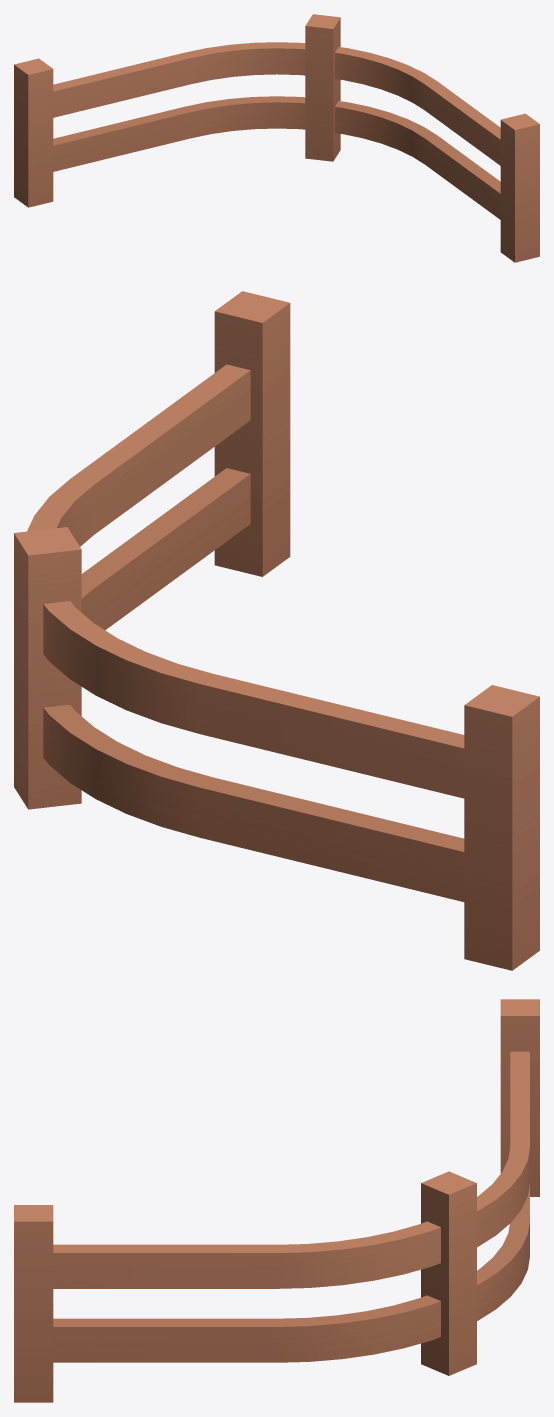
Rendered from fence-curved.fbx.
3 renders of one model, top to bottom at view 1: azimuth 30°, elevation 25°; view 2: azimuth 150°, elevation 25°; view 3: azimuth 270°, elevation 25°, orthographic. The views are drawn at different scales.
Visible parts, largest first — view 1: fence-curved; view 2: fence-curved; view 3: fence-curved.
Boxes of the visible parts, <box> form: fence-curved: <box>14,14,539,262</box>; fence-curved: <box>14,291,539,970</box>; fence-curved: <box>14,999,539,1402</box>.
Size of the model in its own units: 100 by 38 by 100.
1 material, 1 textured.
